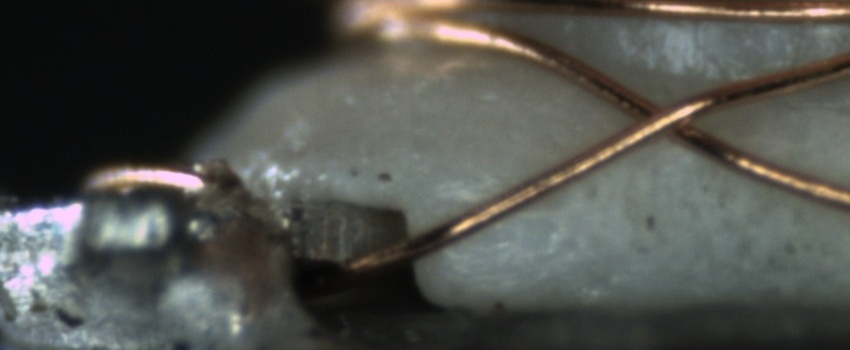CL: (611, 83, 719, 151)
DL: (441, 177, 579, 226)
TE: (73, 147, 238, 202)
